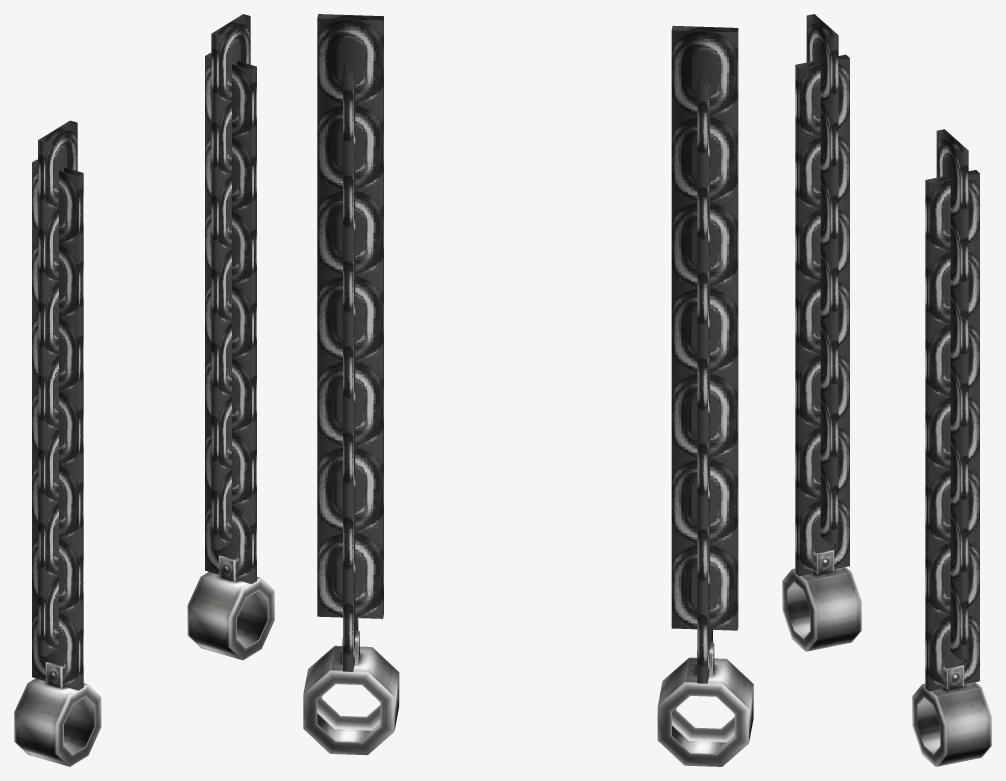
The model's file is SWORDLIGHT20_INST_CHAINCUFFS_LOD1_08.fbx.
The picture shows the model from 3 angles, left to right: view 1: azimuth 30°, elevation 25°; view 2: azimuth 150°, elevation 25°; view 3: azimuth 270°, elevation 25°; orthographic projection. The views are drawn at different scales.
Visible parts, largest first — view 1: SWORDLIGHT20_INST_CHAINCUFFS_LOD1_08; view 2: SWORDLIGHT20_INST_CHAINCUFFS_LOD1_08; view 3: SWORDLIGHT20_INST_CHAINCUFFS_LOD1_08.
Boxes of the visible parts, x1,y1,x2,y2 form: SWORDLIGHT20_INST_CHAINCUFFS_LOD1_08: (14,14,274,766); SWORDLIGHT20_INST_CHAINCUFFS_LOD1_08: (303,14,753,766); SWORDLIGHT20_INST_CHAINCUFFS_LOD1_08: (782,14,991,766).
Size of the model in its own units: 6503 by 12114 by 3737.
Materials: 2 (2 with a texture image).
